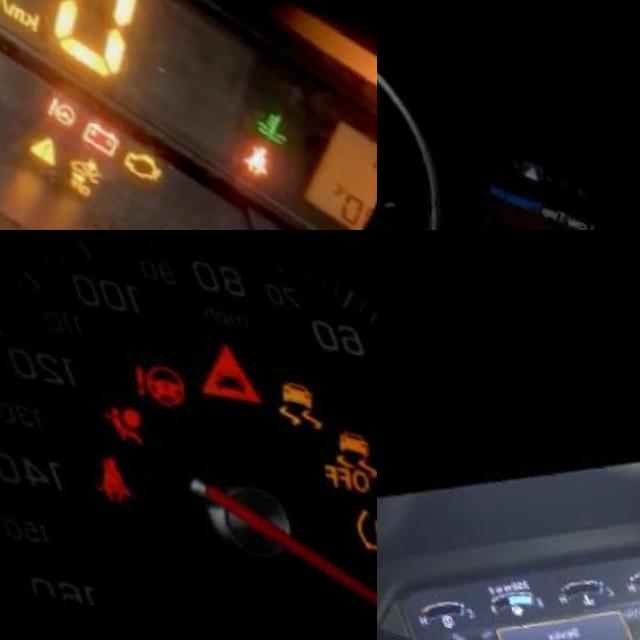Engine cooling system: (256, 75, 302, 128)
High Engine Coolant Temperature: (577, 570, 599, 590)
